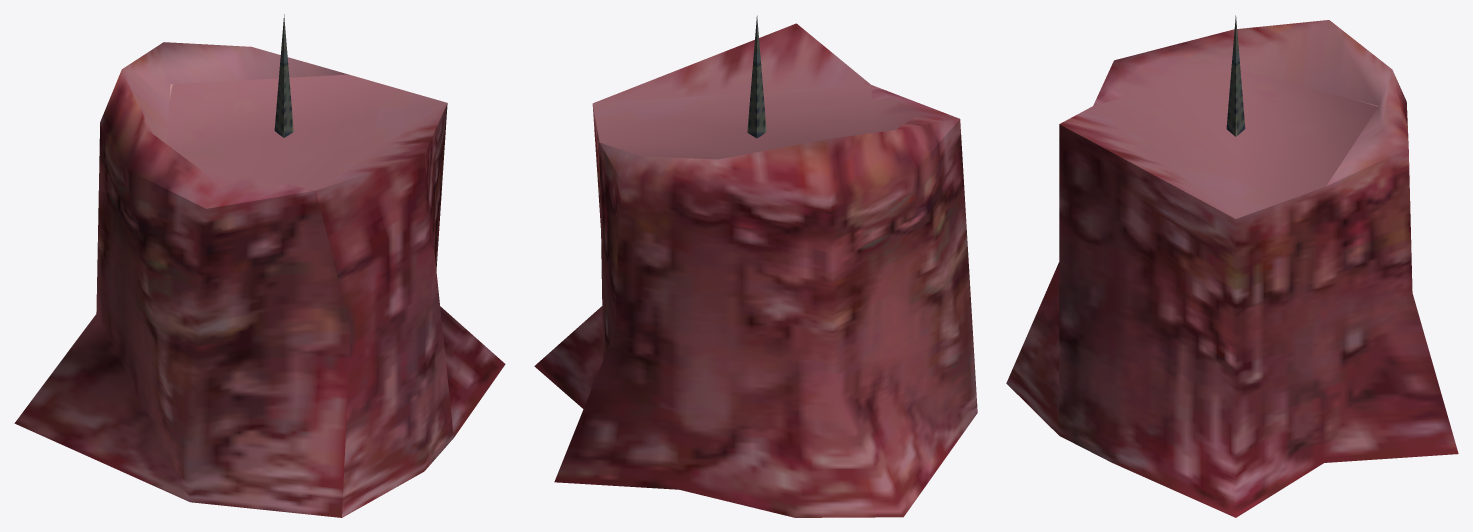
The model's file is candle_short02.fbx.
The picture shows the model from 3 angles, left to right: view 1: azimuth 30°, elevation 25°; view 2: azimuth 150°, elevation 25°; view 3: azimuth 270°, elevation 25°; orthographic projection. The views are drawn at different scales.
Visible parts, largest first — view 1: mesh_0, mesh_1; view 2: mesh_0, mesh_1; view 3: mesh_0, mesh_1.
Boxes of the visible parts, left/top/right/bottom form: mesh_0: left=14, top=42, right=505, bottom=517; mesh_1: left=274, top=14, right=293, bottom=137; mesh_0: left=534, top=23, right=977, bottom=517; mesh_1: left=747, top=15, right=766, bottom=138; mesh_0: left=1006, top=20, right=1458, bottom=517; mesh_1: left=1226, top=15, right=1245, bottom=136.
Size of the model in its own units: 14.35 by 12.92 by 13.32.
Materials: 2 (2 with a texture image).
